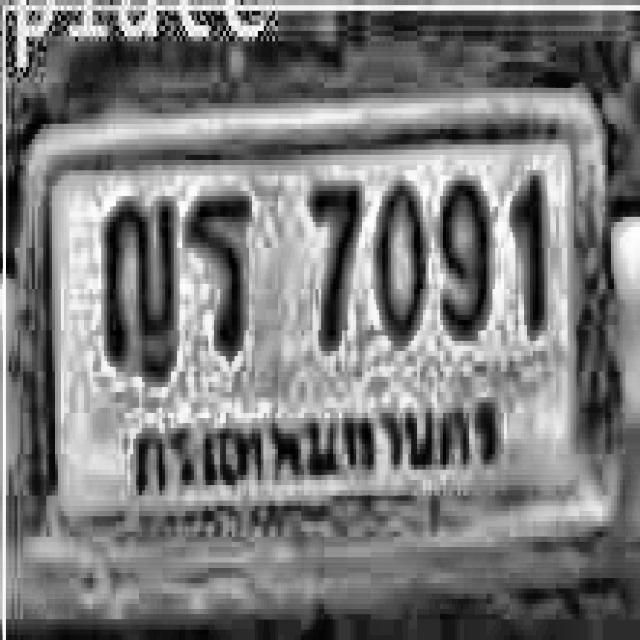license-plate: (5, 85, 640, 605)
